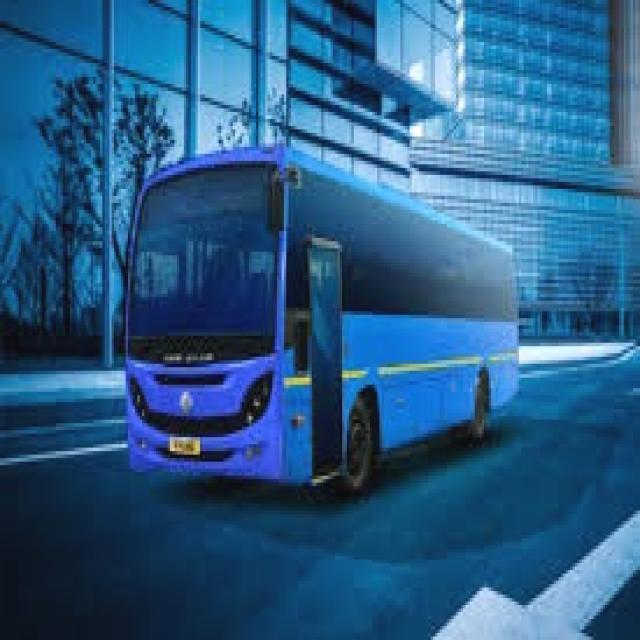Bus: (112, 133, 537, 502)
